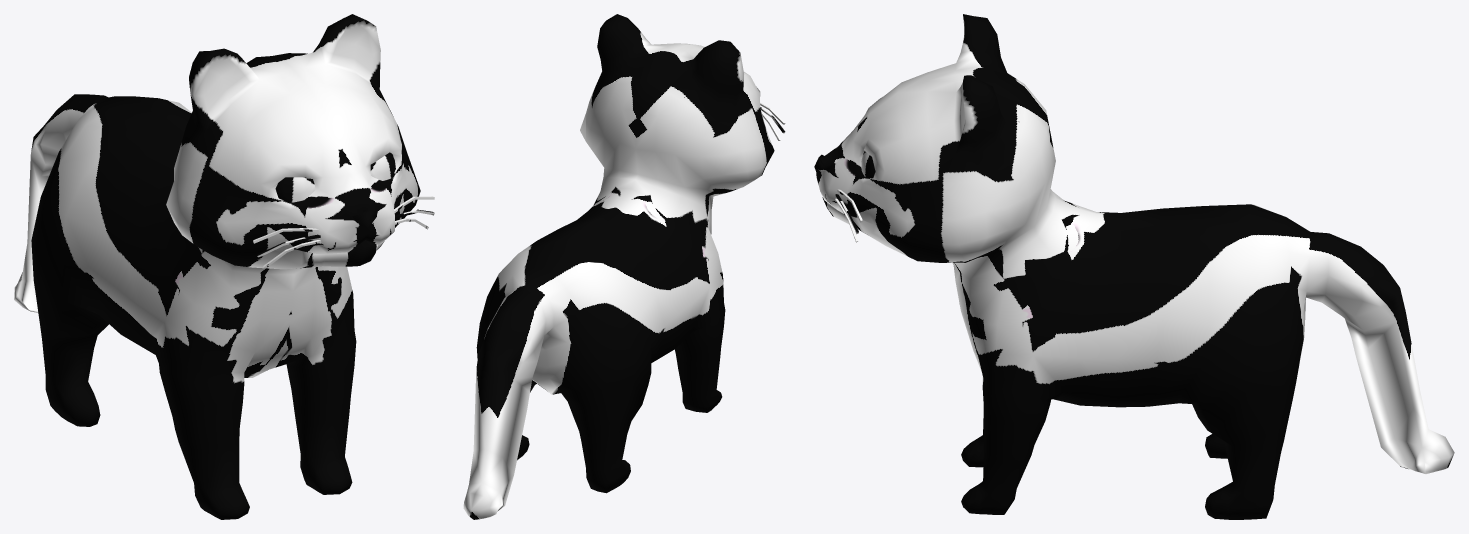
Rendered from DERS.fbx.
3 renders of one model, left to right at view 1: azimuth 30°, elevation 25°; view 2: azimuth 150°, elevation 25°; view 3: azimuth 270°, elevation 25°, orthographic. The views are drawn at different scales.
Parts seen in each view (by area): view 1: Cat; view 2: Cat; view 3: Cat.
Boxes of the visible parts, left/top/right/bottom form: Cat: left=14, top=14, right=434, bottom=519; Cat: left=463, top=14, right=785, bottom=519; Cat: left=814, top=14, right=1454, bottom=519.
Size of the model in its own units: 184 by 366 by 485.
Materials: 1 (1 with a texture image).
